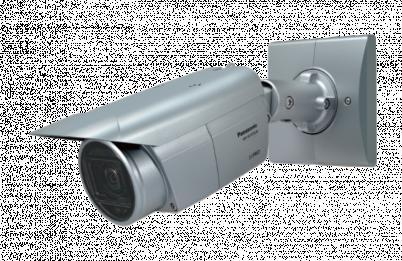tutu: (28, 33, 377, 226)
